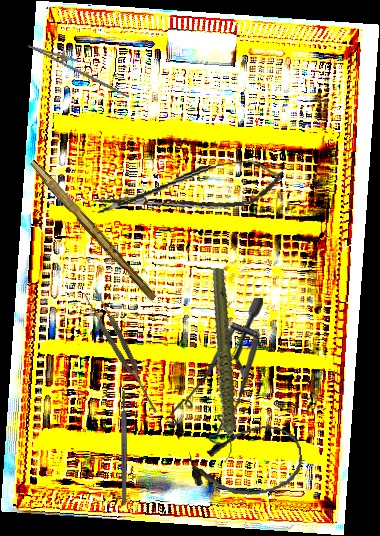Cannula: (186, 420, 307, 504)
Handpiece: (179, 267, 265, 464)
Micro Scissor: (92, 156, 285, 224)
Needle Holder: (23, 36, 137, 99)
Scalpel Handle: (25, 159, 160, 302), (121, 390, 127, 506)
Speculum: (164, 298, 266, 445)
Tissue Forceps: (82, 287, 163, 417)
